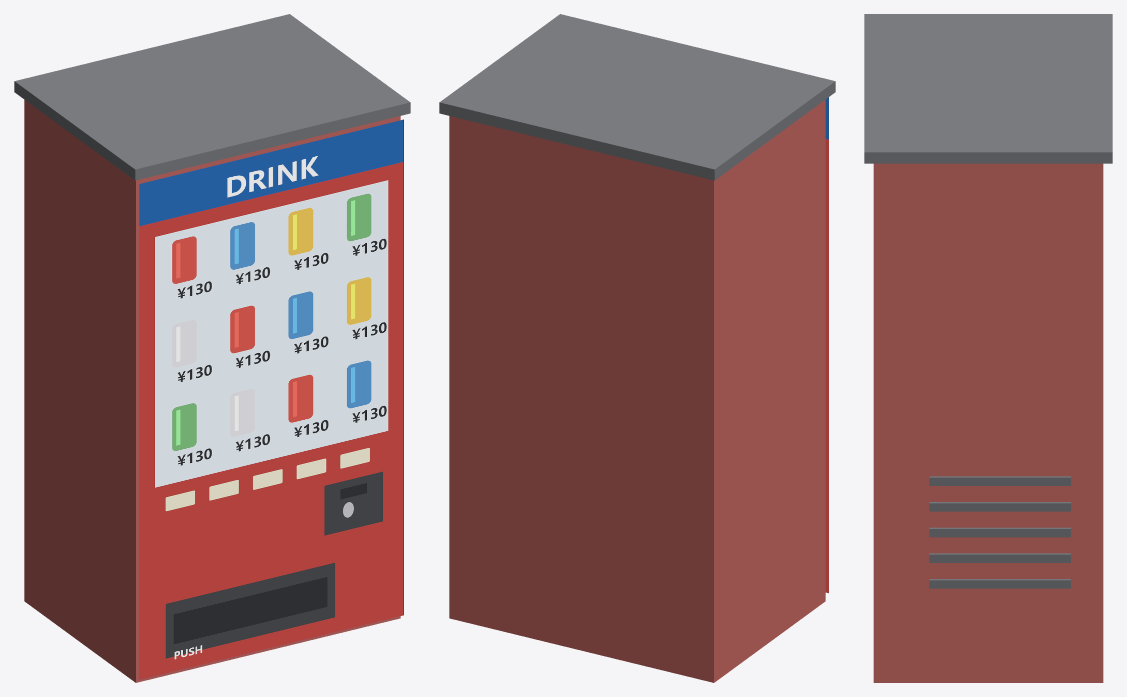
Rendered from prop-vending-drink.glb.
3 renders of one model, left to right at view 1: azimuth 30°, elevation 25°; view 2: azimuth 150°, elevation 25°; view 3: azimuth 270°, elevation 25°, orthographic. The views are drawn at different scales.
Visible parts, largest first — view 1: vend-face, vend-body, vend-cap; view 2: vend-body, vend-cap, vend-face; view 3: vend-body, vend-cap, vend-grille.
Boxes of the visible parts, x1=… form: vend-face: x1=139, y1=119, x2=403, y2=679; vend-body: x1=24, y1=100, x2=400, y2=682; vend-cap: x1=14, y1=14, x2=410, y2=180; vend-body: x1=449, y1=100, x2=825, y2=682; vend-cap: x1=439, y1=14, x2=835, y2=180; vend-face: x1=825, y1=97, x2=828, y2=593; vend-body: x1=873, y1=163, x2=1103, y2=682; vend-cap: x1=864, y1=14, x2=1112, y2=163; vend-grille: x1=929, y1=476, x2=1070, y2=588.
Bounding box in the file's own units: 1.04 × 1.87 × 0.79.
4 materials, 1 textured.
